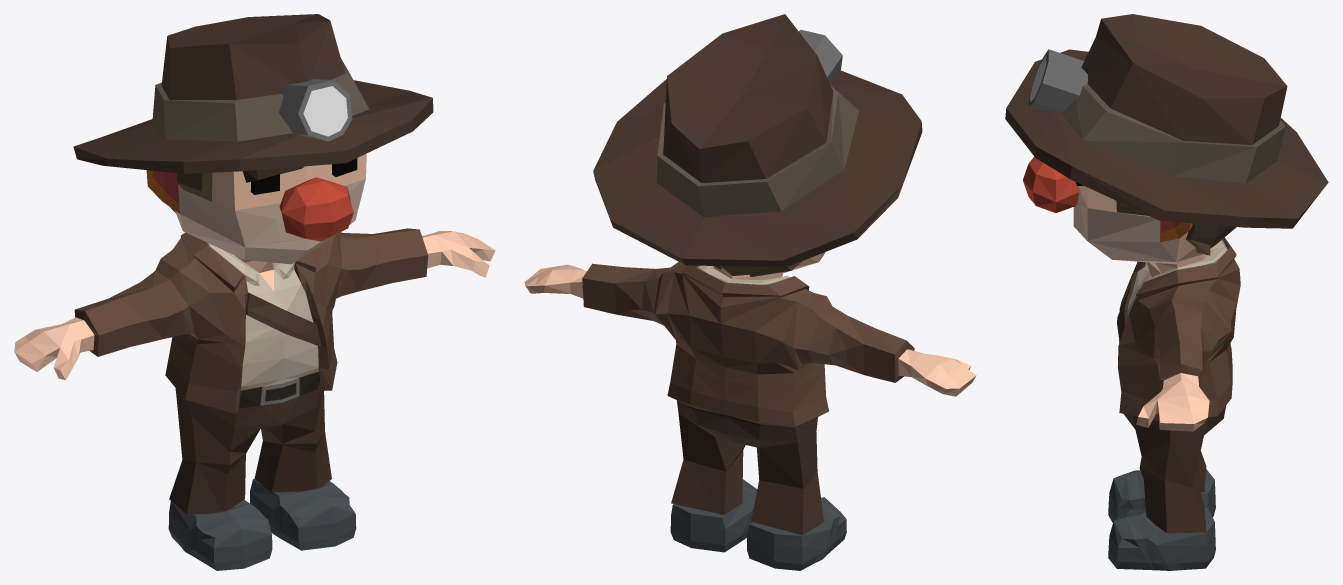
File: GuySpelunky.obj
3 views of the same model, side by side, from view 1: azimuth 30°, elevation 25°; view 2: azimuth 150°, elevation 25°; view 3: azimuth 270°, elevation 25° (orthographic). The views are drawn at different scales.
Parts seen in each view (by area): view 1: GuySpelunky; view 2: GuySpelunky; view 3: GuySpelunky.
Boxes of the visible parts, <box> form: GuySpelunky: <box>14,14,495,570</box>; GuySpelunky: <box>524,14,976,570</box>; GuySpelunky: <box>1005,14,1328,570</box>.
Size of the model in its own units: 1.66 by 1.84 by 1.04.
Materials: 1 (1 with a texture image).
